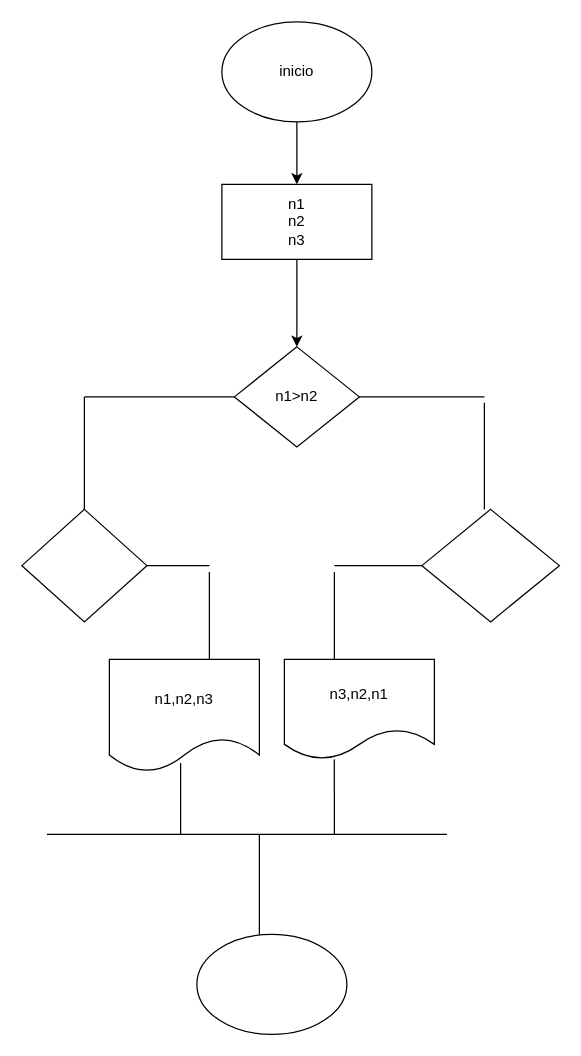
Some shapes in this 581 by 1056 pixel diagram are drawn without their labels. The centre of each missing label's shape, as x and y in pixels:
"n1>n3" goes at pixel 84 565.
"n2>n3" goes at pixel 490 565.
